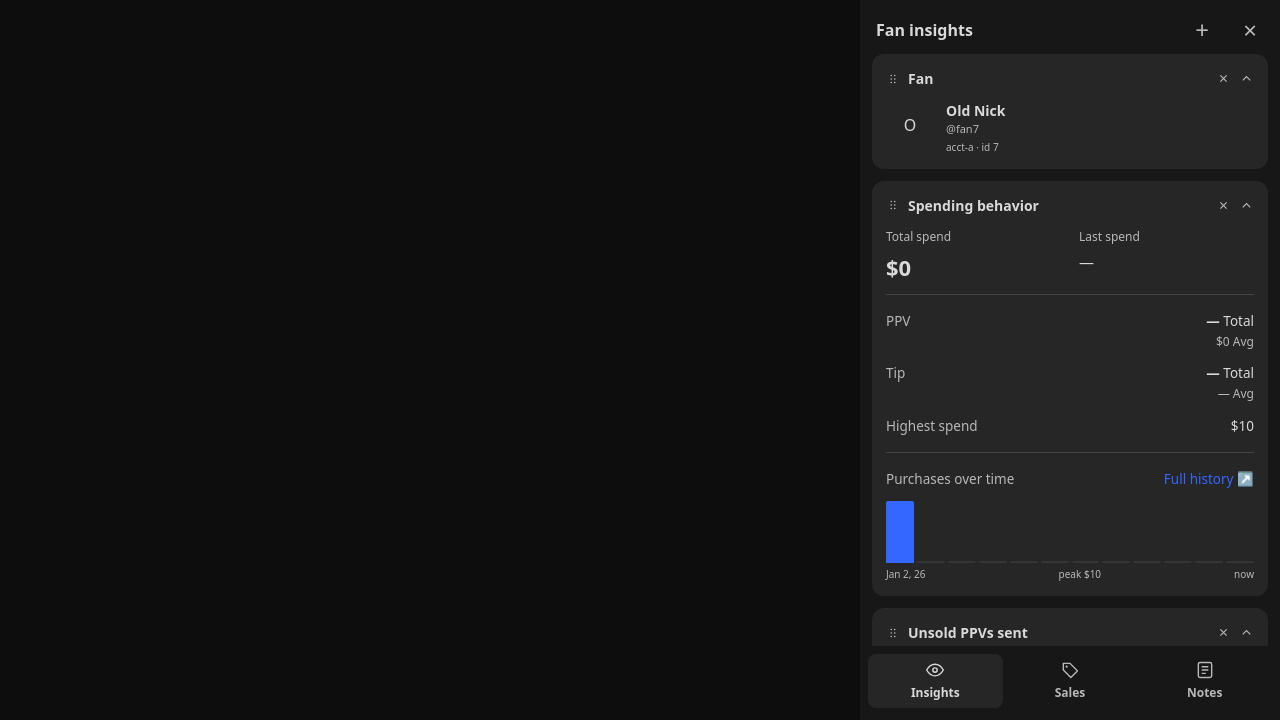
Test: Fan insights Purchases over time › Full history ↗ selects the Sales tab, whose first block is Purchases over time
Click the button "Full history ↗": (1209, 479) left=1164, top=469, right=1254, bottom=489
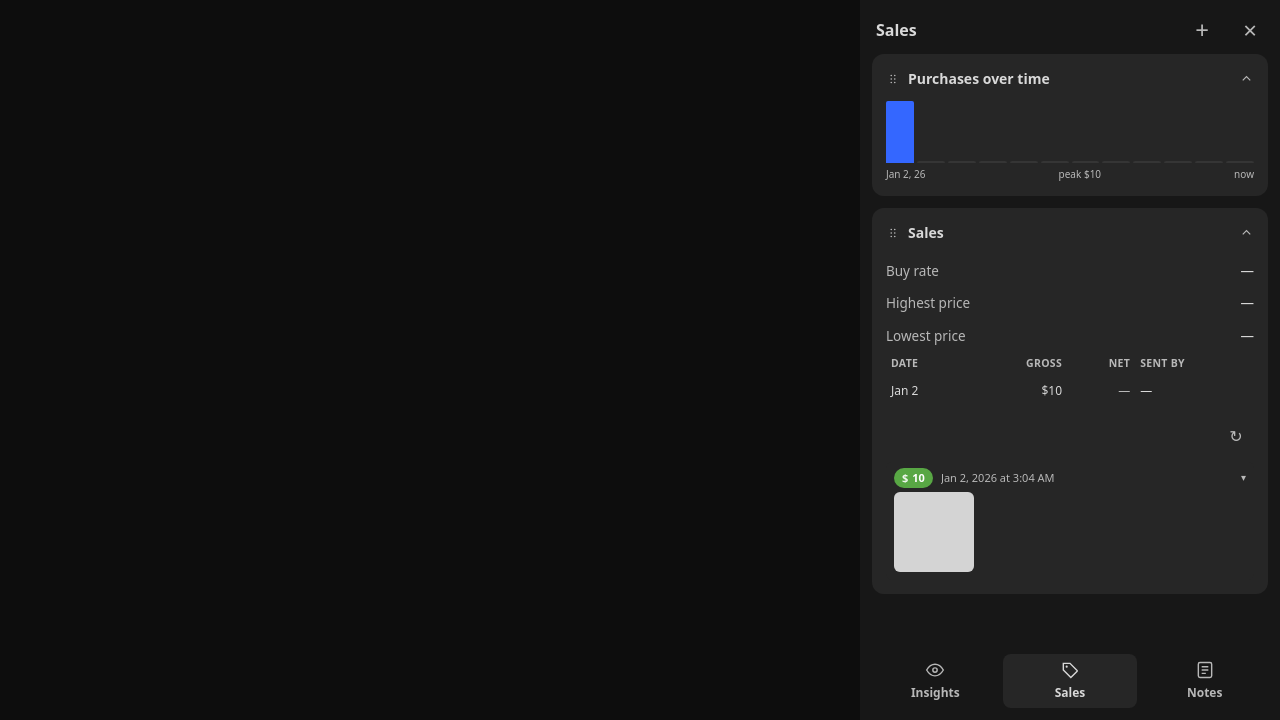
Expected: the heading "Purchases over time" is shown, left=908, top=69, right=1050, bottom=88
Expected: the heading "Sales" is shown, left=876, top=19, right=917, bottom=41
